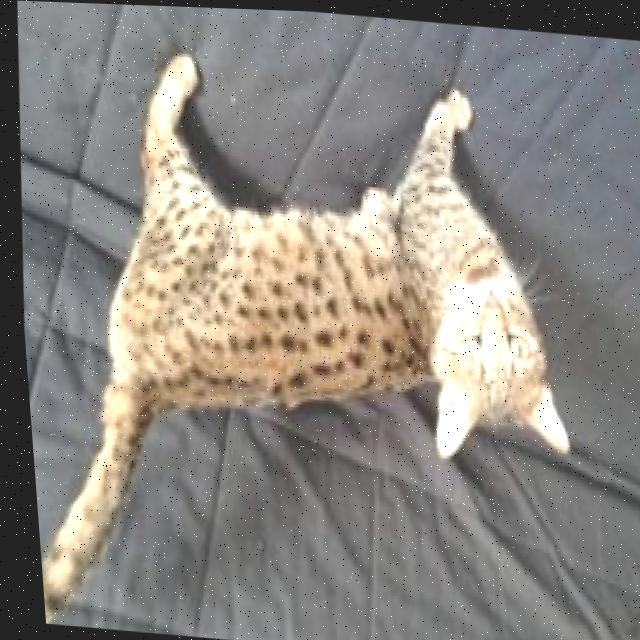Bengal: (1, 24, 596, 640)
